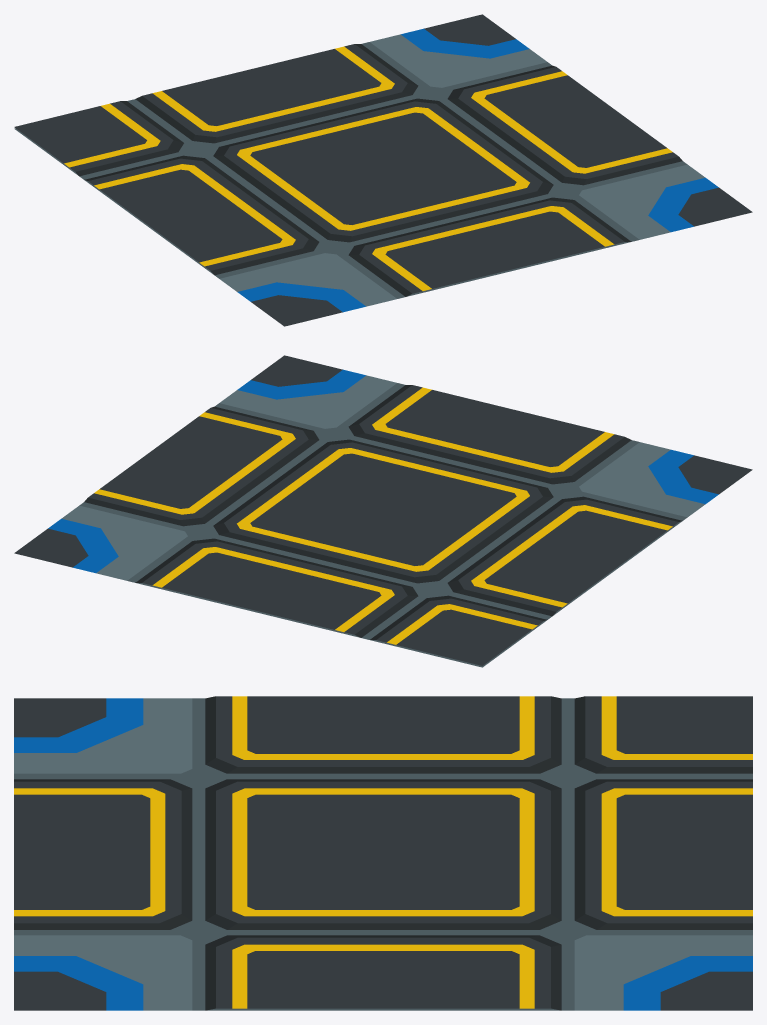
Rendered from Floor_type_C_035.fbx.
3 views of the same model, one above another, from view 1: azimuth 30°, elevation 25°; view 2: azimuth 150°, elevation 25°; view 3: azimuth 270°, elevation 25° (orthographic). The views are drawn at different scales.
Visible parts, largest first — view 1: Floor_type_C_035; view 2: Floor_type_C_035; view 3: Floor_type_C_035.
Part boxes in pixels (x1=…): Floor_type_C_035: x1=14, y1=14, x2=752, y2=326; Floor_type_C_035: x1=14, y1=355, x2=752, y2=667; Floor_type_C_035: x1=14, y1=696, x2=752, y2=1010.
Size of the model in its own units: 400 by 400 by 1.34.
